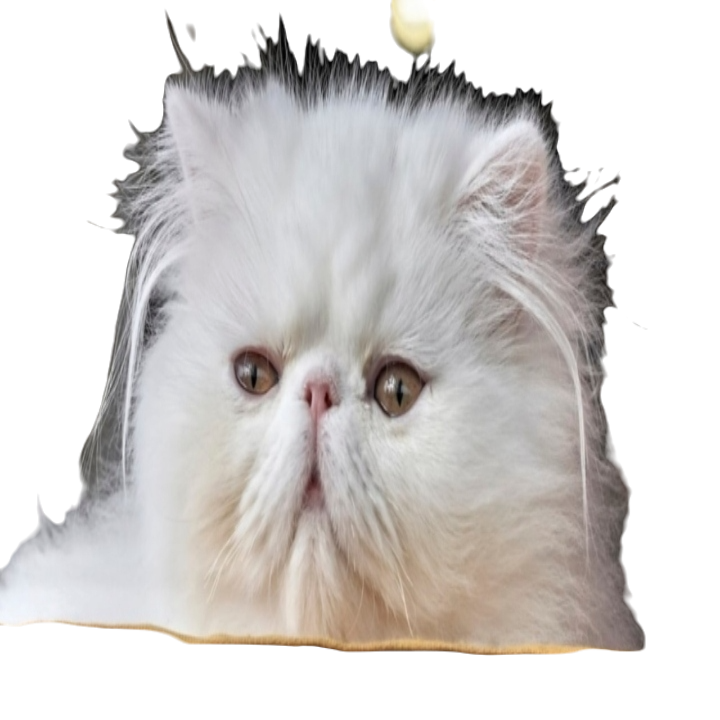Cat: (0, 0, 654, 648)
